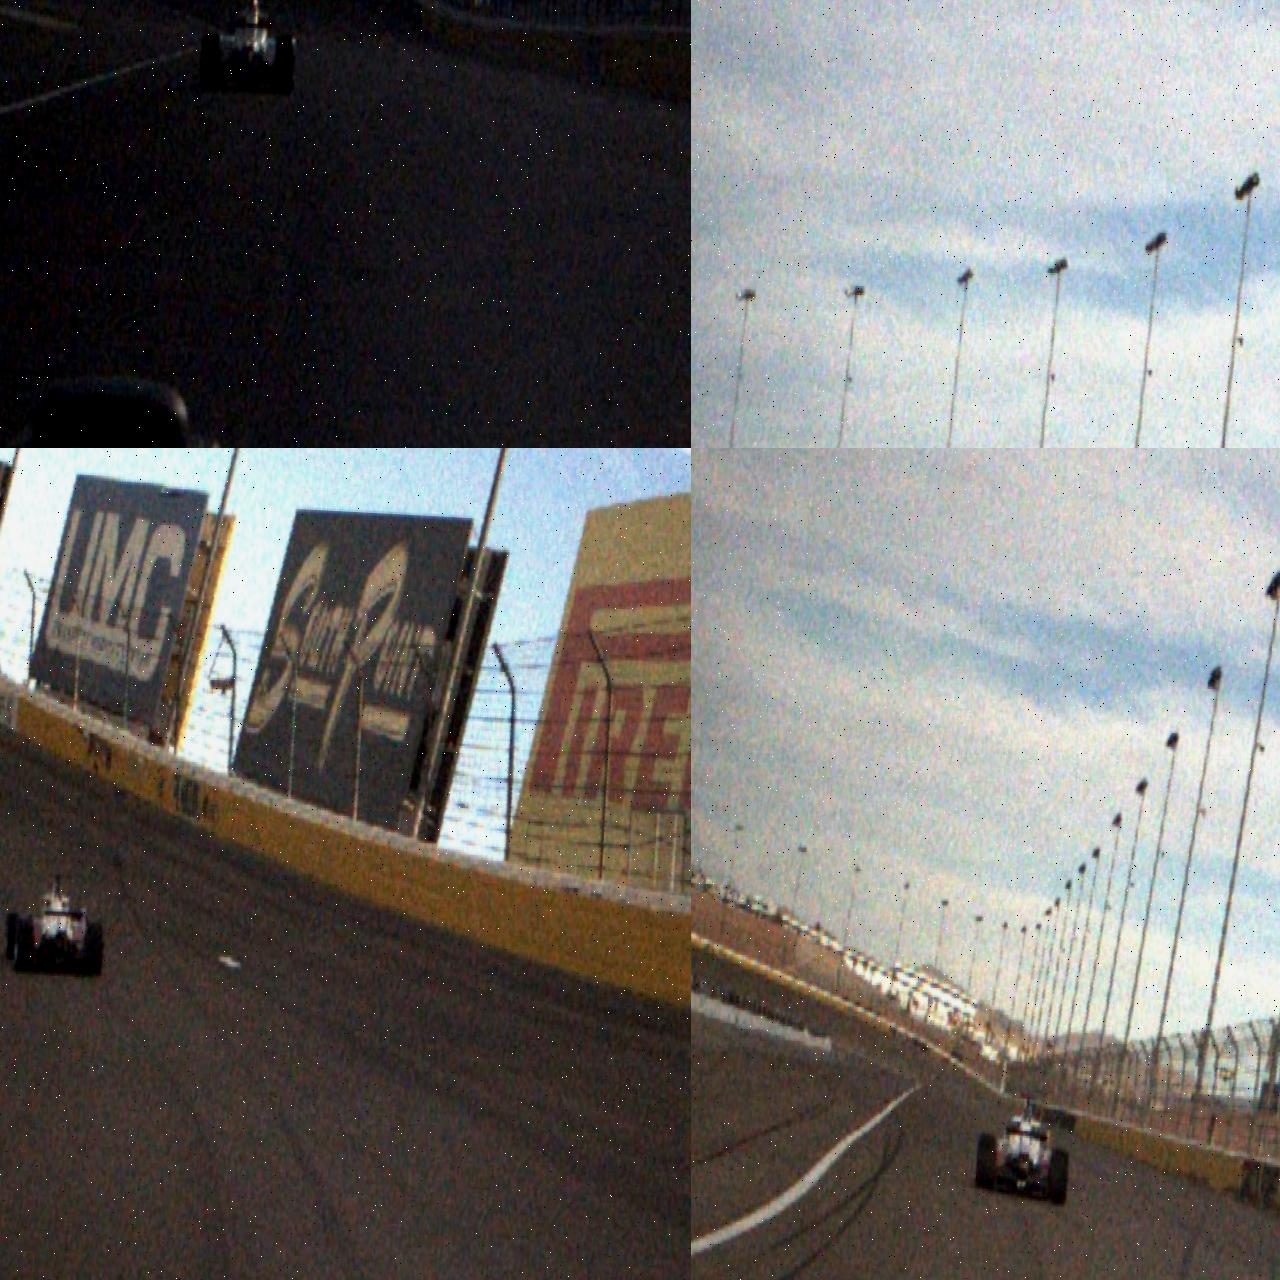AV: (974, 1089, 1073, 1206), (1, 870, 107, 978), (197, 0, 298, 96)
Wheel: (273, 34, 297, 96), (197, 32, 219, 91), (975, 1133, 998, 1191), (84, 921, 105, 976), (1049, 1148, 1069, 1205), (13, 919, 34, 973), (2, 910, 19, 959)
